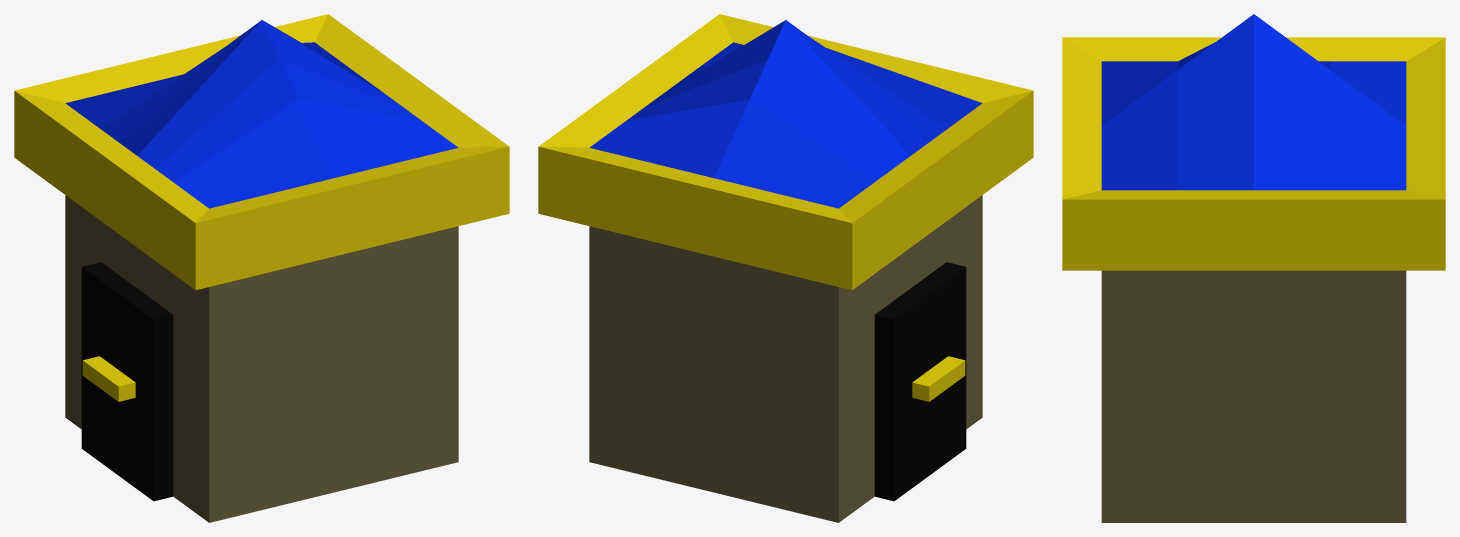
Rendered from hut3.glb.
The picture shows the model from 3 angles, left to right: view 1: azimuth 30°, elevation 25°; view 2: azimuth 150°, elevation 25°; view 3: azimuth 270°, elevation 25°; orthographic projection. The views are drawn at different scales.
Parts seen in each view (by area): view 1: Cube; view 2: Cube; view 3: Cube.
Part boxes in pixels (x1,y1,x2,y2): Cube: (14, 14, 509, 522); Cube: (538, 14, 1033, 522); Cube: (1062, 14, 1445, 522).
Size of the model in its own units: 9.57 by 12.06 by 9.43.
